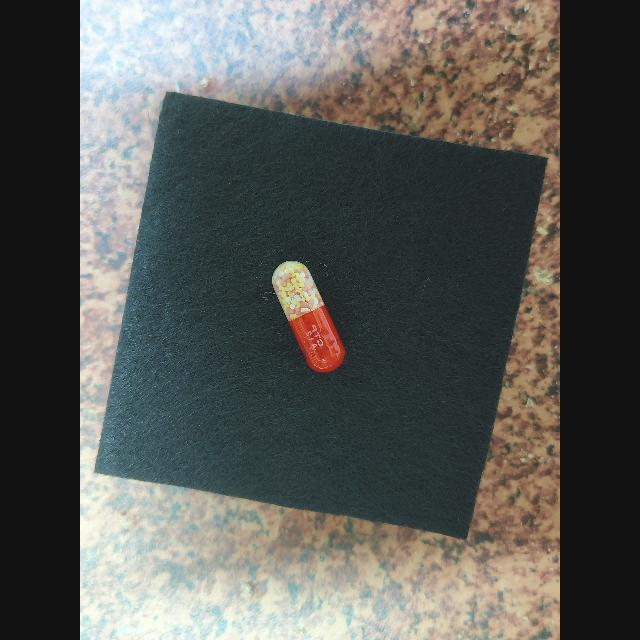Intact Capsule: (272, 261, 345, 373)
